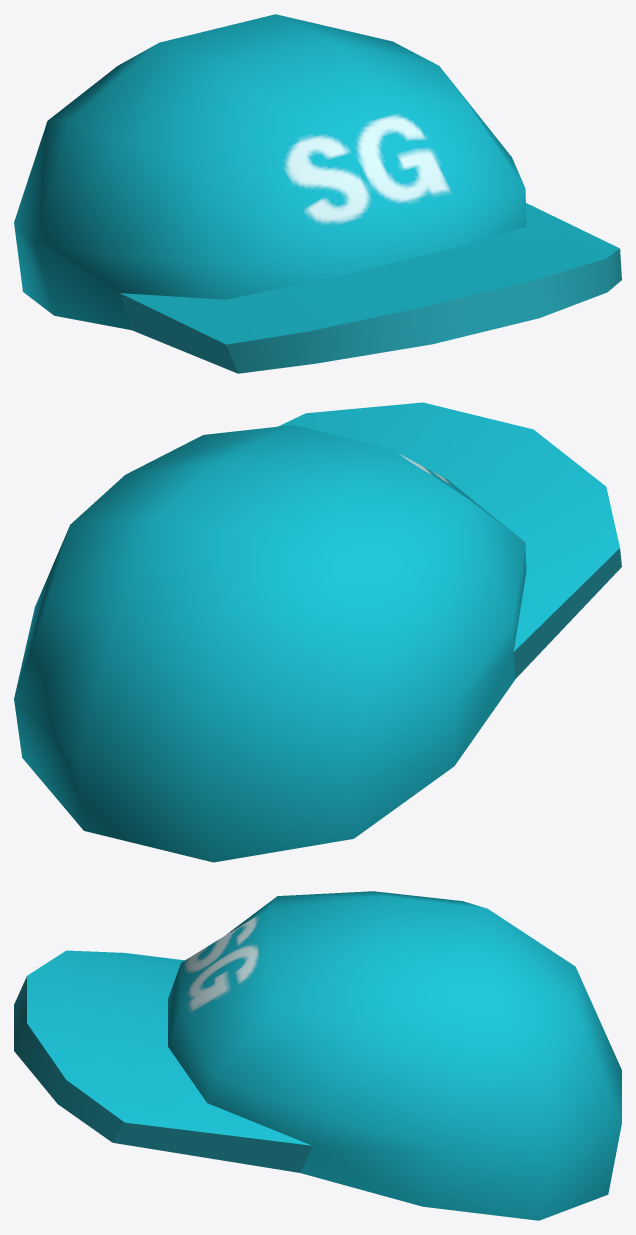
File: Hat.fbx
3 renders of one model, top to bottom at view 1: azimuth 30°, elevation 25°; view 2: azimuth 150°, elevation 25°; view 3: azimuth 270°, elevation 25°, orthographic. The views are drawn at different scales.
Visible parts, largest first — view 1: Quad Sphere001; view 2: Quad Sphere001; view 3: Quad Sphere001.
Part boxes in pixels (x1,y1,x2,y2): Quad Sphere001: (14, 14, 621, 373); Quad Sphere001: (14, 402, 621, 862); Quad Sphere001: (14, 891, 621, 1220).
Bounding box in the file's own units: 27.46 × 17.47 × 39.26.
